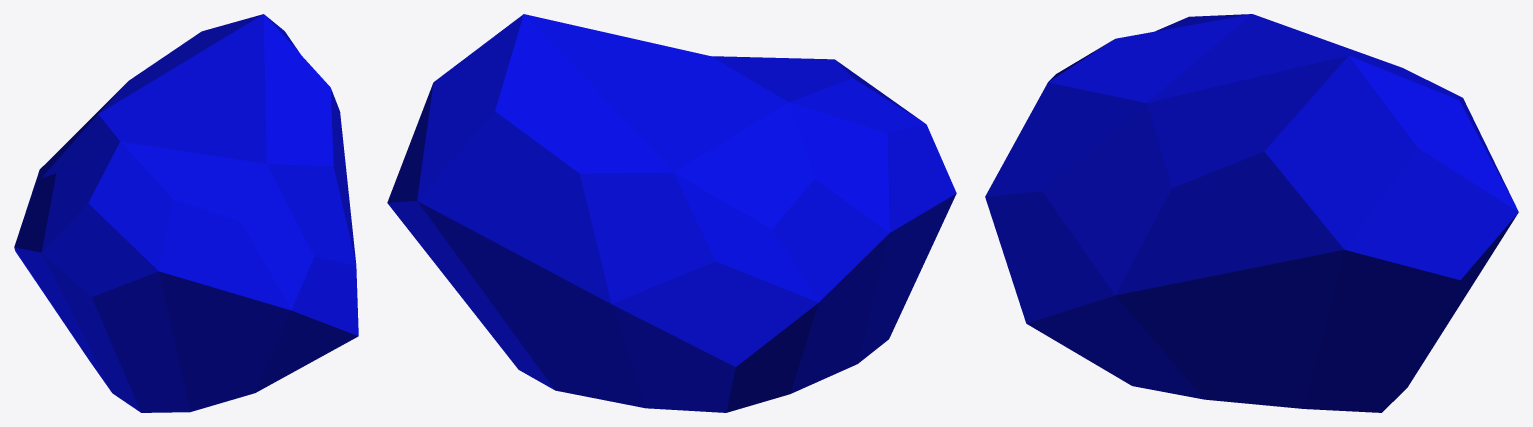
Rendered from SM_Big_RoundStone3.fbx.
The picture shows the model from 3 angles, left to right: view 1: azimuth 30°, elevation 25°; view 2: azimuth 150°, elevation 25°; view 3: azimuth 270°, elevation 25°; orthographic projection. The views are drawn at different scales.
Visible parts, largest first — view 1: SM_Big_RoundStone3; view 2: SM_Big_RoundStone3; view 3: SM_Big_RoundStone3.
Boxes of the visible parts, x1,y1,x2,y2 form: SM_Big_RoundStone3: [14, 14, 358, 412]; SM_Big_RoundStone3: [387, 14, 956, 412]; SM_Big_RoundStone3: [985, 14, 1518, 412].
Size of the model in its own units: 178 by 141 by 189.
